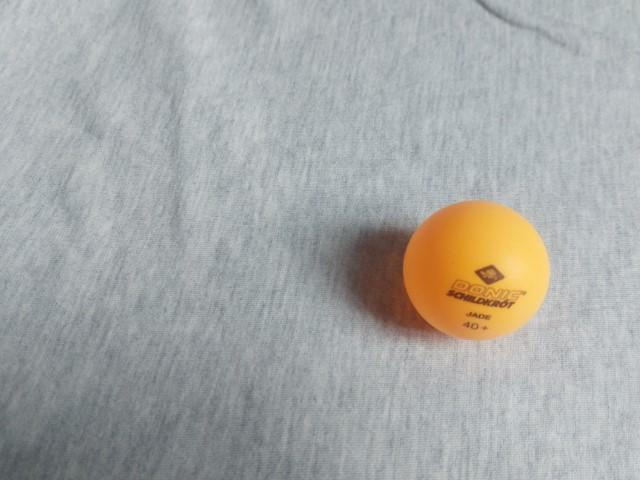oball: (402, 197, 552, 347)
